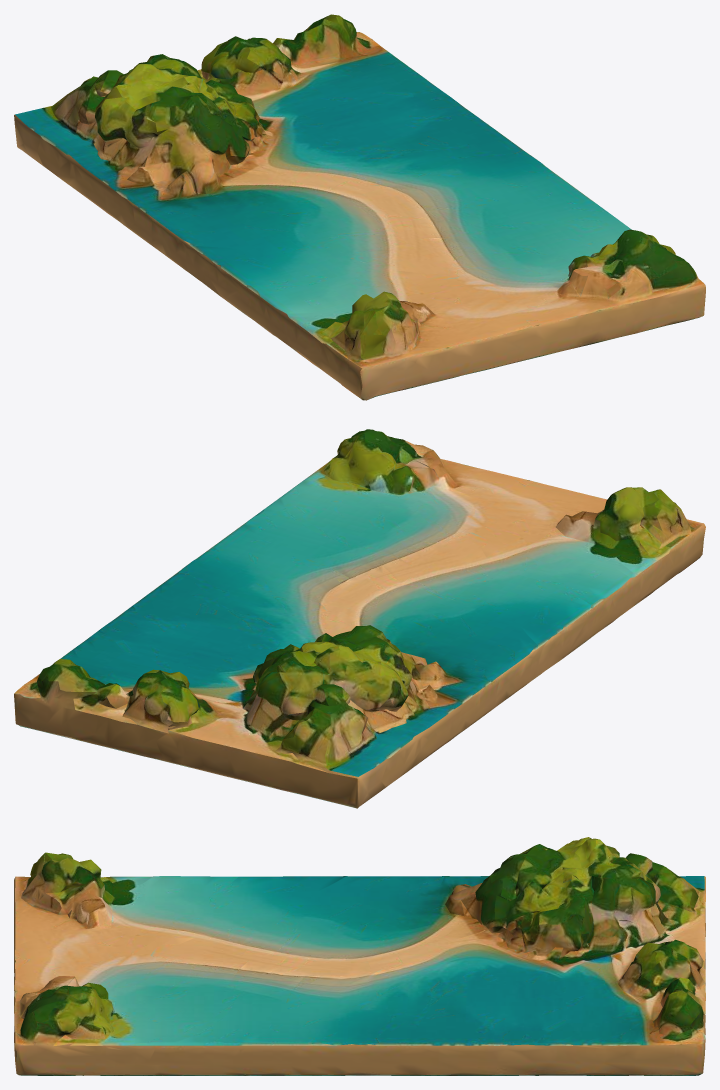
File: angel-road.glb
3 renders of one model, top to bottom at view 1: azimuth 30°, elevation 25°; view 2: azimuth 150°, elevation 25°; view 3: azimuth 270°, elevation 25°, orthographic.
Parts seen in each view (by area): view 1: logan-textured.obj; view 2: logan-textured.obj; view 3: logan-textured.obj.
Boxes of the visible parts, bbox=[...] form: logan-textured.obj: bbox=[14, 14, 705, 400]; logan-textured.obj: bbox=[14, 429, 705, 808]; logan-textured.obj: bbox=[14, 837, 705, 1075].
Bounding box in the file's own units: 0.5791 × 0.1695 × 1.
Materials: 1 (1 with a texture image).
